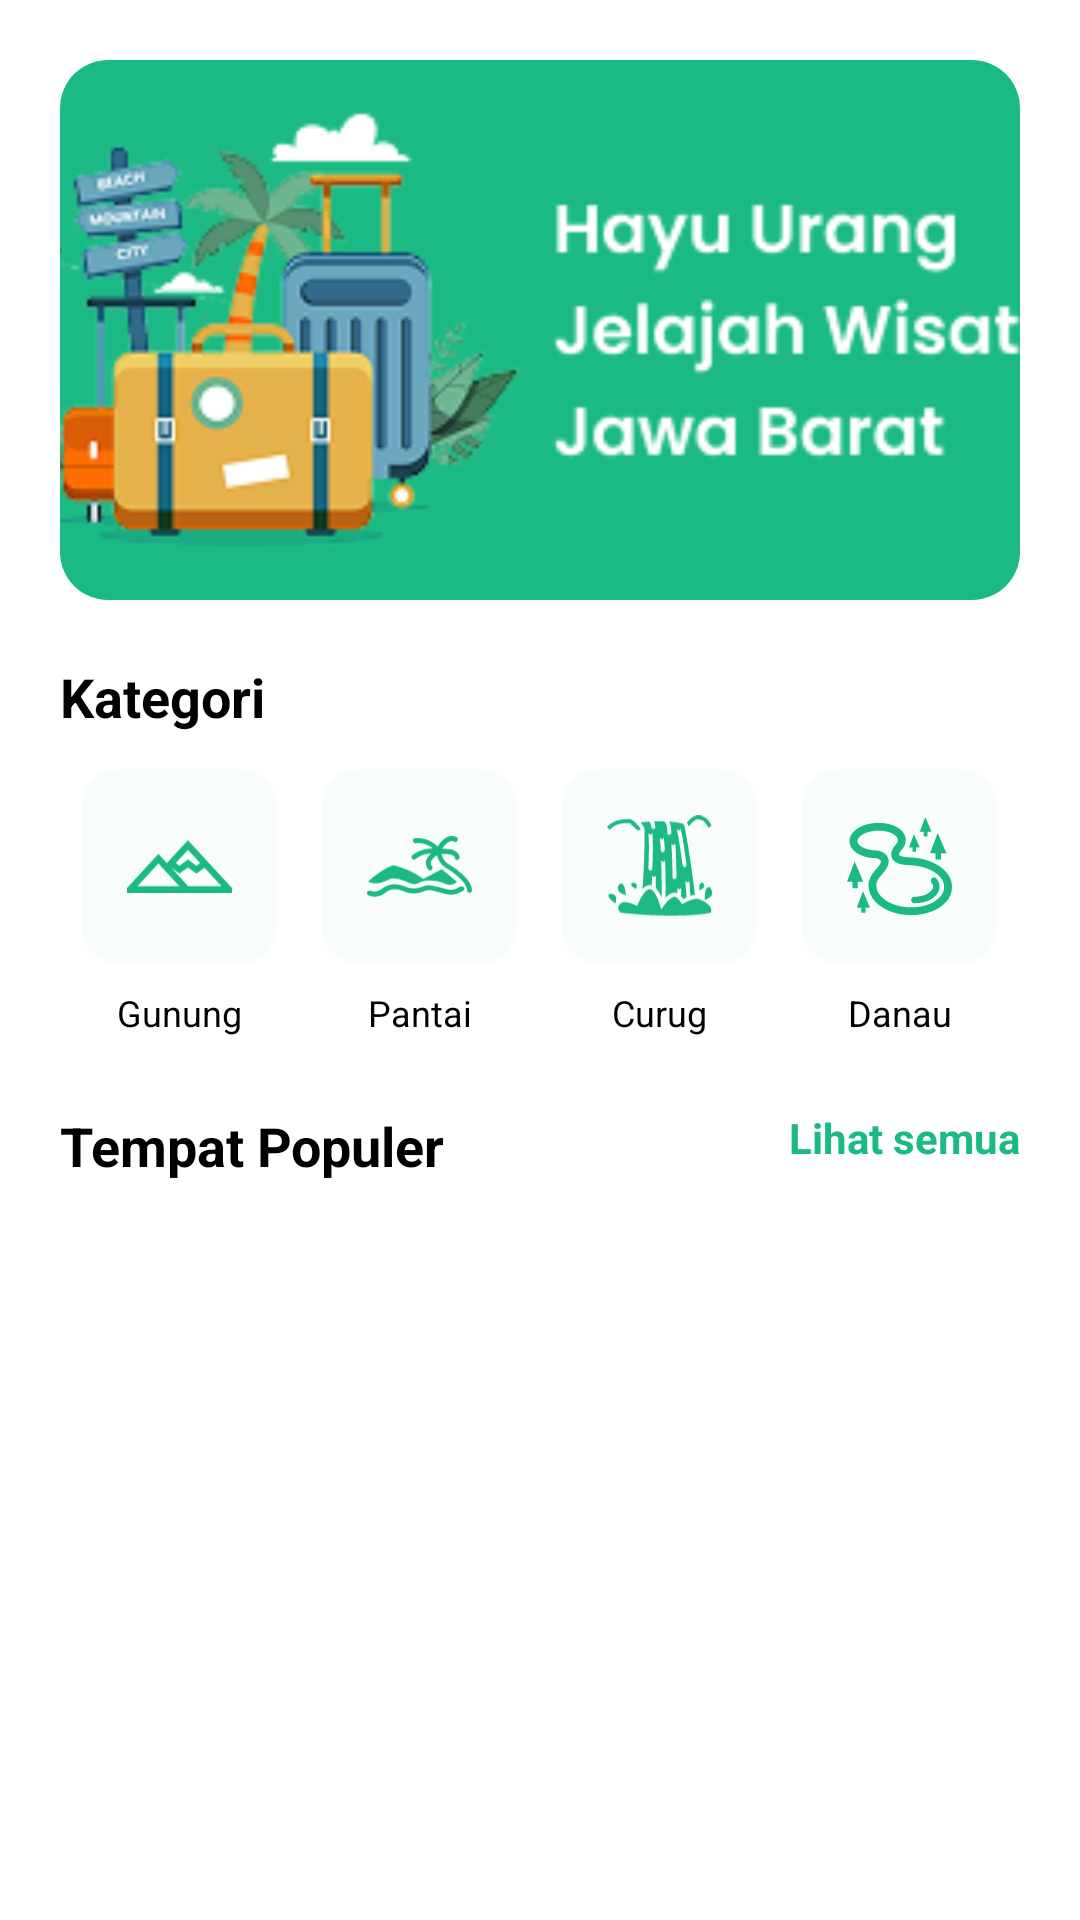

Point at icon controls on the screen. Image size 1080x1920, points as [x,y].
airterjun: [659,865]
